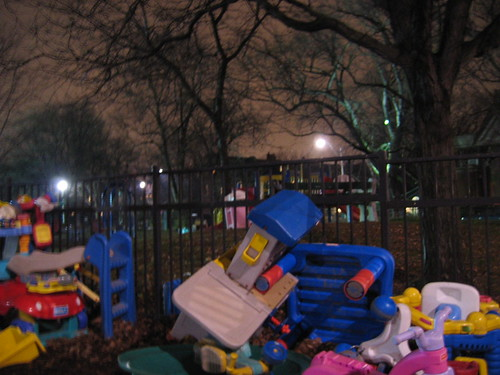trash: (1, 184, 478, 375)
tree: (302, 1, 486, 258), (89, 1, 250, 200)
